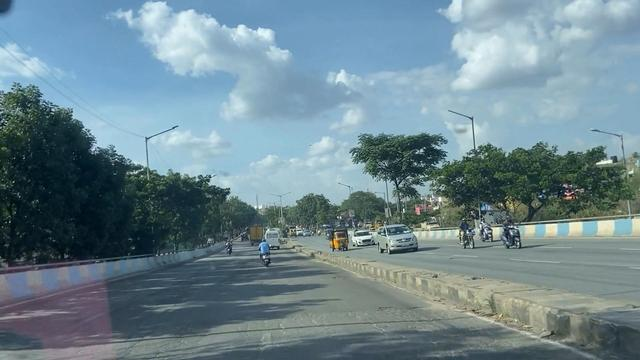HMV: (266, 228, 279, 249)
LMV: (255, 226, 275, 264)
RoadDamages: (138, 299, 440, 360)
